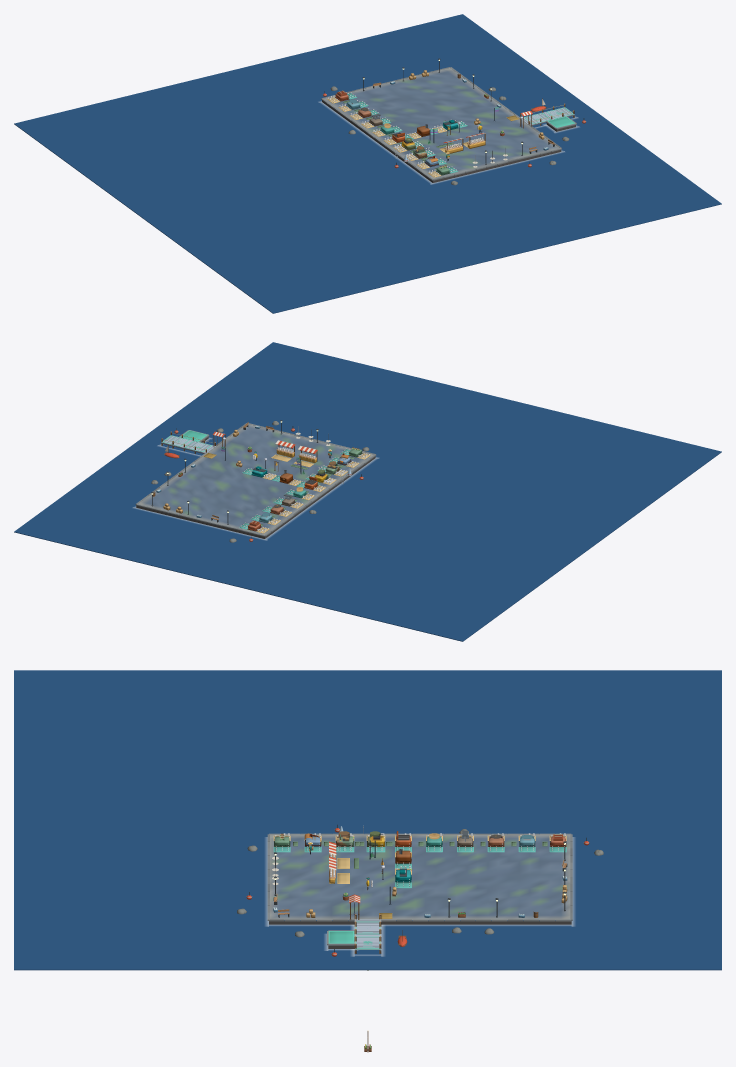
Rendered from aurora_inlet_blockout.glb.
3 views of the same model, one above another, from view 1: azimuth 30°, elevation 25°; view 2: azimuth 150°, elevation 25°; view 3: azimuth 270°, elevation 25° (orthographic). The views are drawn at different scales.
Visible parts, largest first — view 1: Water, Ground_au_land, Foam, Ground_au_pier; view 2: Water, Ground_au_land, Ground_au_pier, Foam; view 3: Water, Ground_au_land, Foam, Ground_au_pier.
Part boxes in pixels (box(x1,y1,x2,y2)): Water: box(14, 14, 721, 313); Ground_au_land: box(321, 67, 561, 182); Foam: box(318, 101, 579, 184); Ground_au_pier: box(520, 103, 574, 125); Water: box(14, 342, 721, 641); Ground_au_land: box(135, 423, 376, 538); Ground_au_pier: box(161, 431, 215, 453); Foam: box(133, 437, 378, 540); Water: box(14, 670, 721, 970); Ground_au_land: box(267, 833, 572, 924); Foam: box(265, 837, 574, 956); Ground_au_pier: box(354, 914, 381, 953).
Bounding box in the file's own units: 80 × 22.44 × 80.
